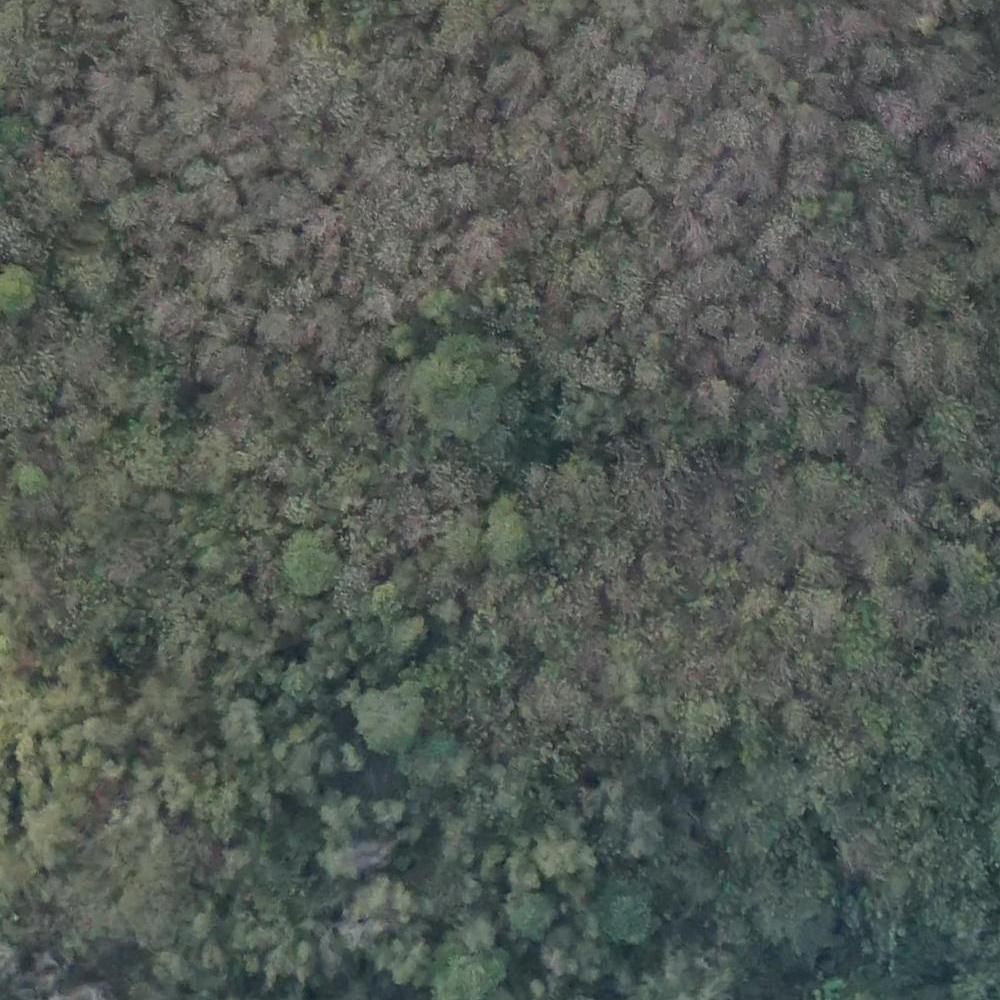tree: (420, 338, 514, 441), (280, 527, 340, 599), (589, 875, 655, 940), (762, 335, 824, 402), (795, 386, 861, 448), (686, 249, 757, 301), (487, 497, 538, 569), (357, 685, 420, 742), (23, 806, 94, 855), (60, 245, 113, 305), (485, 46, 544, 99), (427, 160, 483, 213), (855, 254, 908, 310), (703, 100, 756, 155), (686, 690, 737, 745), (211, 695, 266, 745), (595, 68, 649, 115), (288, 61, 336, 112), (258, 305, 303, 357), (79, 151, 137, 190), (535, 829, 582, 877), (214, 75, 267, 117), (570, 248, 612, 301), (58, 117, 106, 160), (362, 277, 405, 324), (795, 101, 835, 151), (785, 146, 831, 189), (257, 227, 298, 273), (296, 202, 342, 243), (206, 588, 248, 632), (160, 298, 207, 337), (221, 131, 265, 172), (625, 807, 668, 848), (108, 194, 153, 232), (629, 348, 670, 389), (321, 845, 359, 886), (373, 795, 412, 834), (700, 371, 738, 410), (420, 284, 459, 320), (802, 551, 839, 588), (1, 272, 39, 308), (323, 799, 362, 834), (698, 301, 735, 337), (161, 770, 199, 805), (445, 522, 478, 560), (645, 550, 675, 591), (11, 460, 44, 496), (374, 584, 402, 622), (53, 721, 86, 752), (793, 191, 824, 223), (281, 497, 313, 527), (620, 184, 652, 212), (82, 717, 112, 741), (200, 541, 231, 564)
